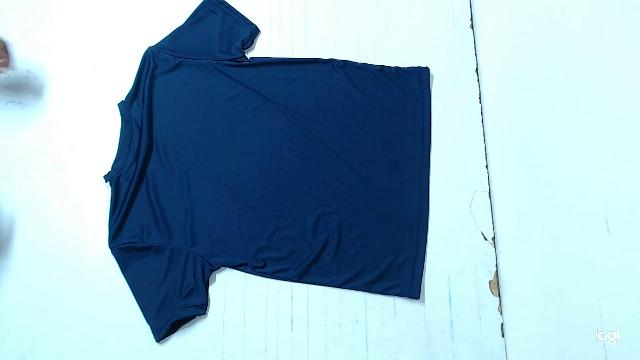new-garment: (104, 0, 431, 341)
